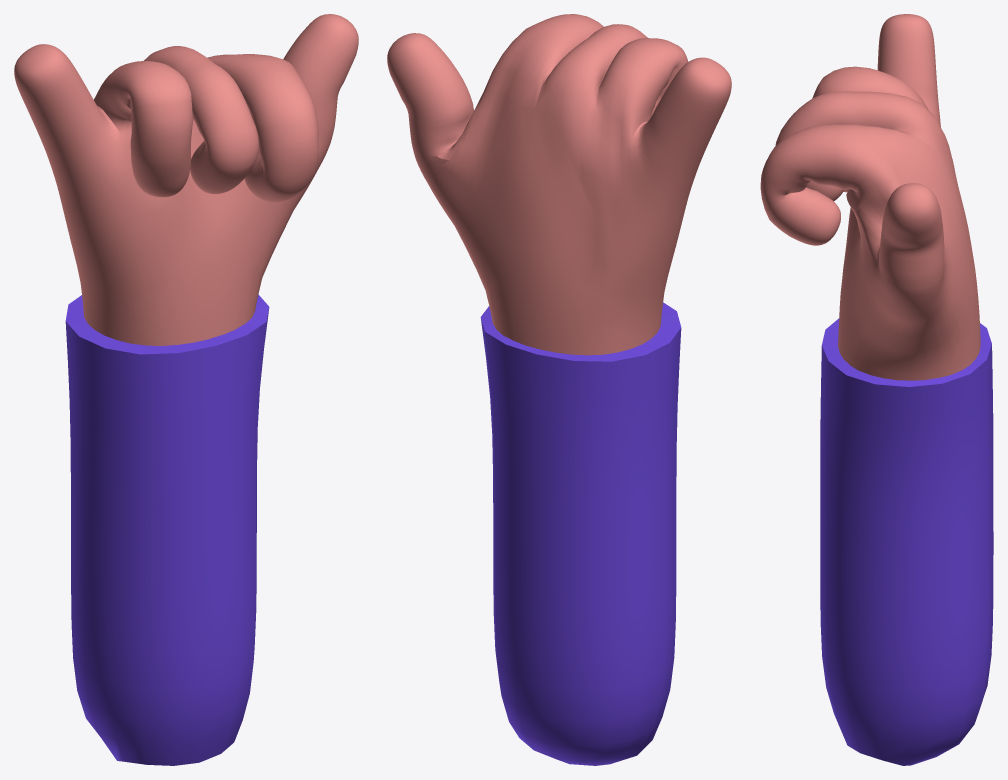
The model's file is hand_asl.gltf.
3 renders of one model, left to right at view 1: azimuth 30°, elevation 25°; view 2: azimuth 150°, elevation 25°; view 3: azimuth 270°, elevation 25°, orthographic. The views are drawn at different scales.
Parts seen in each view (by area): view 1: sleeve; view 2: sleeve; view 3: sleeve.
Boxes of the visible parts, bbox=[...] form: sleeve: bbox=[14, 14, 358, 765]; sleeve: bbox=[387, 14, 731, 765]; sleeve: bbox=[760, 14, 993, 765].
Size of the model in its own units: 2.28 by 4.75 by 1.46.
